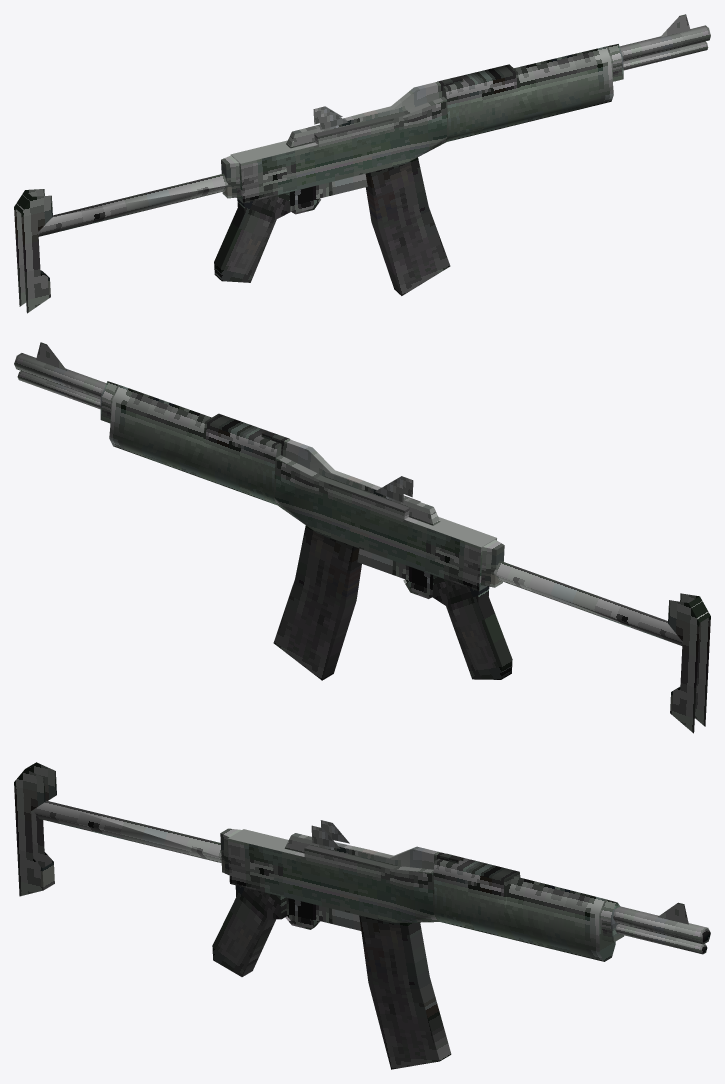
Rendered from Kruger.fbx.
3 views of the same model, one above another, from view 1: azimuth 30°, elevation 25°; view 2: azimuth 150°, elevation 25°; view 3: azimuth 330°, elevation 25° (orthographic). The views are drawn at different scales.
Parts seen in each view (by area): view 1: ruger; view 2: ruger; view 3: ruger.
Boxes of the visible parts, <box> form: ruger: <box>14,14,710,313</box>; ruger: <box>14,342,710,733</box>; ruger: <box>14,762,710,1069</box>.
Bounding box in the file's own units: 99.01 × 32.26 × 11.91.
1 material, 1 textured.
